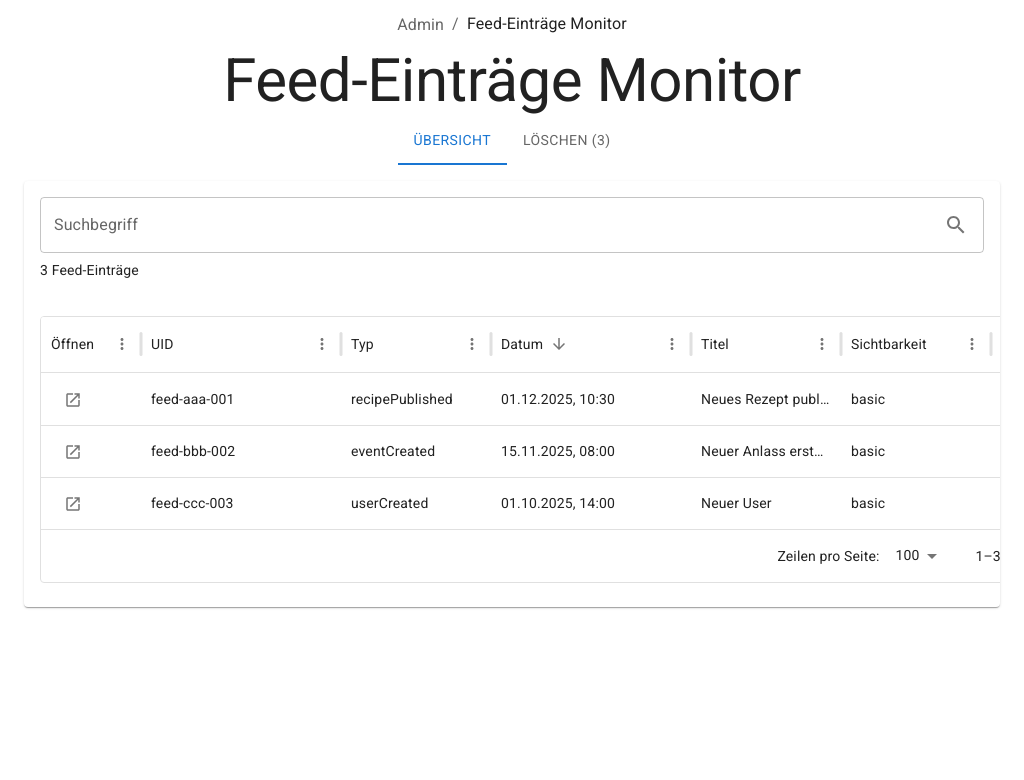
13b – kappt eine negativ eingegebene Tagesanzahl auf den Mindestwert (100)
Step 1. Click the tab "Löschen (3)" → (567, 141), box [507,117,626,165]
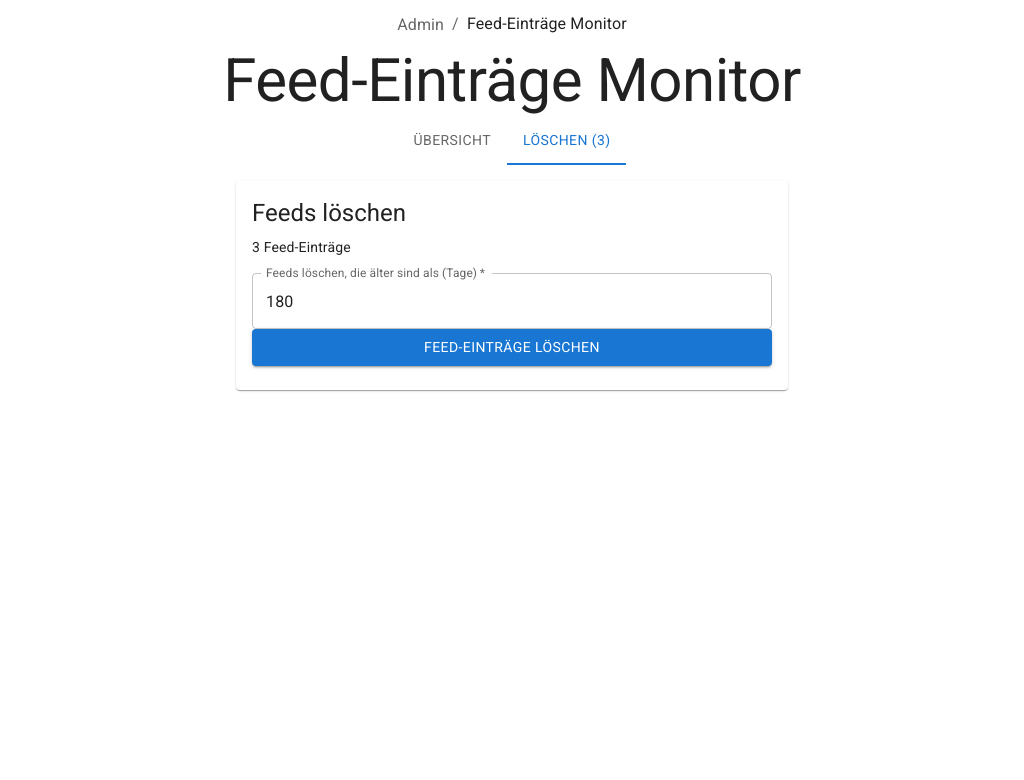
Step 2. Replace the text in the number field labelled "Feeds löschen, die älter sind als (Tage) *" with "-5" → (512, 301), box [252,273,772,329]
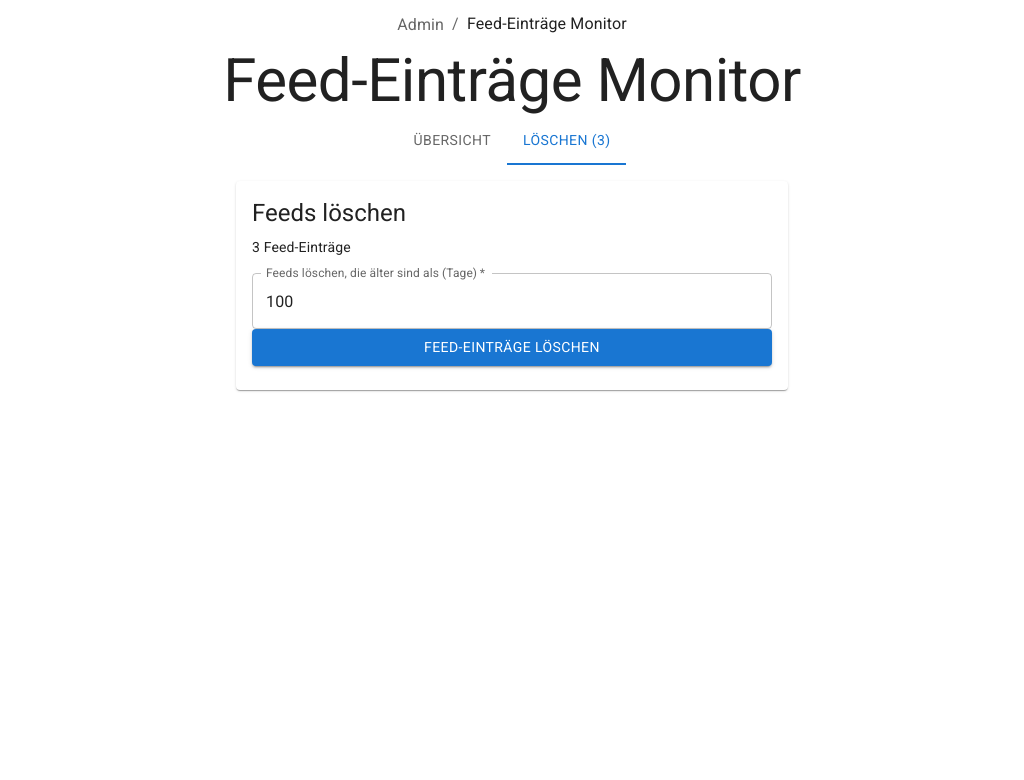
Expected: the number field labelled "Feeds löschen, die älter sind als (Tage) *" holds "100", [252,273,772,329]
